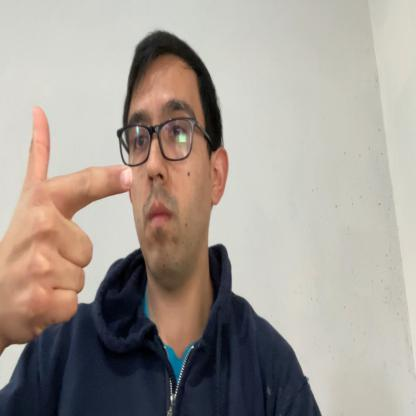G: (8, 104, 134, 344)
